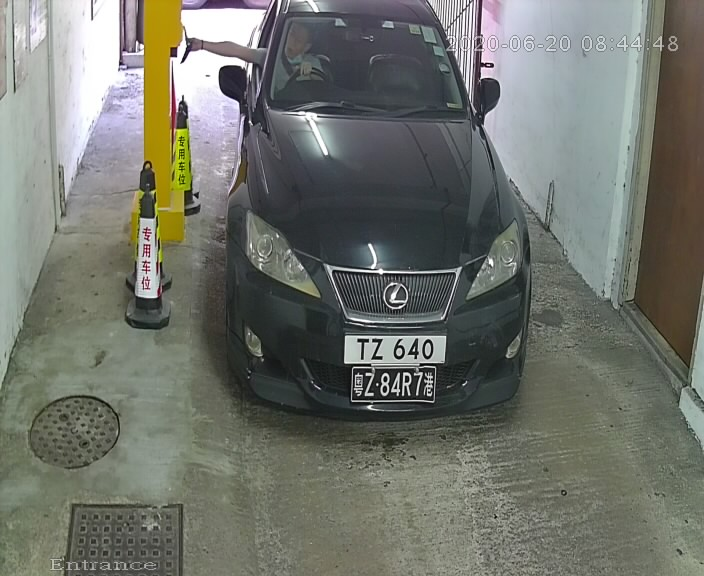privatecar: (179, 3, 529, 398)
